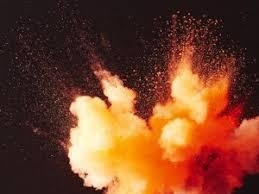fire: (64, 45, 238, 186)
